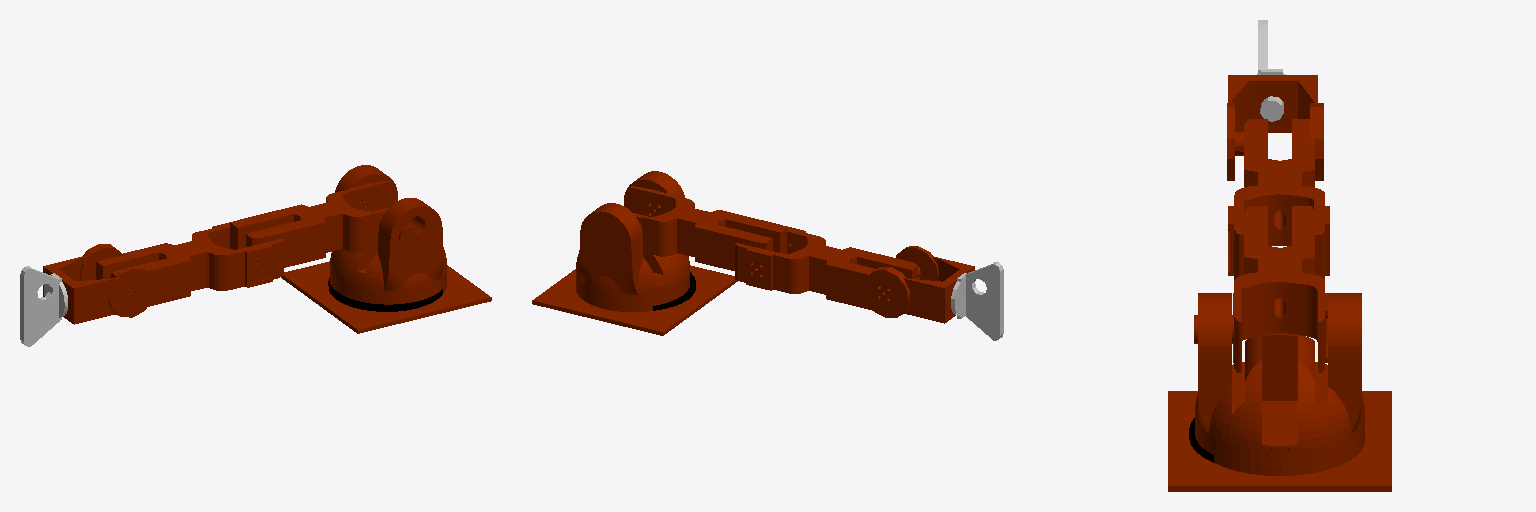
The robot description file, URDF, robot "braccio":
<?xml version="1.0"?>
<robot name="braccio">
     <gazebo>
     <plugin name="gazebo_ros_control" filename="libgazebo_ros_control.so">
       <robotNamespace>/robot</robotNamespace>
       <robotSimType>gazebo_ros_control/DefaultRobotHWSim</robotSimType>
       <controlPeriod>0.001</controlPeriod>
       <legacyModeNS>true</legacyModeNS>
     </plugin>
   </gazebo>
    <!-- Color de materiales -->
    <material name="orange">
        <color rgba="0.57 0.17 0.0 1" />
    </material>
    <material name="white">
        <color rgba="0.8 0.8 0.8 1.0" />
    </material>
    <material name="black">
        <color rgba="0 0 0 0.50" />
    </material>

    <!--Mascaras para partes del robot-->
    <link name="base_link">
        <visual>
            <geometry>
                <cylinder length="0.01" radius=".053" />
            </geometry>
            <material name="black" />
            <origin rpy="0 0 0" xyz="0 0 0" />
        </visual>
        <inertial>
            <origin rpy="0 0 0" xyz="0 0 0" />
            <mass value="2" />
            <inertia ixx="0.015" ixy="0" ixz="0" iyy="0.00666666666667" iyz="0" izz="0.0216666666667" />
        </inertial>
    </link>

    <link name="braccio_base_link">
        <visual>
            <geometry>
                <mesh filename="package://lab2/meshes/braccio_base.stl" scale="0.01 0.01 0.01" />
            </geometry>
            <material name="orange" />
            <origin rpy="0 0 -1.5708" xyz="0 0.004 0" />
        </visual>
        <collision>
            <geometry>
                <mesh filename="package://lab2/meshes/braccio_base.stl" scale="0.01 0.01 0.01" />
            </geometry>
            <origin rpy="0 0 -1.5708" xyz="0 0.004 0" />
        </collision>
        <inertial>
            <origin rpy="0 0 3.1416" xyz="0 0.004 0" />
            <mass value="2" />
            <inertia ixx="0.015" ixy="0" ixz="0" iyy="0.00666666666667" iyz="0" izz="0.0216666666667" />
        </inertial>
    </link>

    <link name="shoulder_link">
        <visual>
            <geometry>
                <mesh filename="package://lab2/meshes/braccio_shoulder.stl" scale="0.01 0.01 0.01" />
            </geometry>
            <material name="orange" />
            <origin rpy="0 0 0" xyz="-0.01 0.0056 -0.021" />
        </visual>
        <collision>
            <geometry>
                <mesh filename="package://lab2/meshes/braccio_shoulder.stl" scale="0.01 0.01 0.01" />
            </geometry>
            <origin rpy="0 0 0" xyz="-0.01 0.0056 -0.021" />
        </collision>
        <inertial>
            <origin rpy="0 0 0" xyz="-0.01 0.0056 -0.021" />
            <mass value="0.1" />
            <inertia ixx="0.000348958333333" ixy="0" ixz="0" iyy="0.000348958333333" iyz="0" izz="3.125e-05" />
        </inertial>
    </link>

    <link name="elbow_link">
        <visual>
            <geometry>
                <mesh filename="package://lab2/meshes/braccio_elbow.stl" scale="0.01 0.01 0.01" />
            </geometry>
            <material name="orange" />
            <origin rpy="0 0 0" xyz="-0.01 0 -0.005" />
        </visual>
        <collision>
            <geometry>
                <mesh filename="package://lab2/meshes/braccio_elbow.stl" scale="0.01 0.01 0.01" />
            </geometry>
            <origin rpy="0 0 0" xyz="-0.01 0 -0.005" />
        </collision>
        <inertial>
            <origin rpy="0 0 0" xyz="-0.01 0 -0.005" />
            <mass value="0.1" />
            <inertia ixx="0.000348958333333" ixy="0" ixz="0" iyy="0.000348958333333" iyz="0" izz="3.125e-05" />
        </inertial>
    </link>

    <link name="wrist_pitch_link">
        <visual>
            <geometry>
                <mesh filename="package://lab2/meshes/braccio_wrist_pitch.stl" scale="0.01 0.01 0.01" />
            </geometry>
            <material name="orange" />
            <origin rpy="0 0 0" xyz="0.003 -0.0015 0.0085" />
        </visual>
        <collision>
            <geometry>
                 <mesh filename="package://lab2/meshes/braccio_wrist_pitch.stl" scale="0.01 0.01 0.01" />
            </geometry>
            <origin rpy="0 0 0" xyz="0.003 -0.0015 0.0085" />
        </collision>
        <inertial>
            <origin rpy="0 0 0" xyz="0.003 -0.0015 0.0085" />
            <mass value="0.1" />
            <inertia ixx="0.000348958333333" ixy="0" ixz="0" iyy="0.000348958333333" iyz="0" izz="3.125e-05" />
        </inertial>
    </link>

    <link name="wrist_roll_link">
        <visual>
            <geometry>
                <mesh filename="package://lab2/meshes/braccio_wrist_roll.stl" scale="0.01 0.01 0.01" />
            </geometry>
            <material name="white" />
            <origin rpy="0 0 0" xyz="0.006 0 0.035" />
        </visual>
        <collision>
            <geometry>
                <mesh filename="package://lab2/meshes/braccio_wrist_roll.stl" scale="0.01 0.01 0.01" />
            </geometry>
            <origin rpy="0 0 0" xyz="0.006 0 0.035" />
        </collision>
        <inertial>
            <origin rpy="0 0 0" xyz="0.006 0 0.035" />
            <mass value="0.1" />
            <inertia ixx="0.000348958333333" ixy="0" ixz="0" iyy="0.000348958333333" iyz="0" izz="3.125e-05" />
        </inertial>
    </link>

    <link name="left_gripper_link">
        <visual>
            <geometry>
                <mesh filename="package://lab2/meshes/braccio_left_gripper.stl" scale="0.001 0.001 0.001" />
            </geometry>
            <material name="white" />
            <origin rpy="0 1.5708 0" xyz="0.035 -0.0215 0" />
        </visual>
        <collision>
            <origin rpy="0 1.5708 0" xyz="0.035 -0.0215 0" />
            <geometry>
                 <mesh filename="package://lab2/meshes/braccio_left_gripper.stl" scale="0.001 0.001 0.001" />
            </geometry>
        </collision>
        <inertial>
            <mass value="0.1" />
            <inertia ixx="0.000348958333333" ixy="0" ixz="0" iyy="0.000348958333333" iyz="0" izz="3.125e-05" />
        </inertial>
    </link>

    <link name="right_gripper_link">
        <visual>
            <geometry>
                <mesh filename="package://lab2/meshes/braccio_right_gripper.stl" scale="0.001 0.001 0.001" />
            </geometry>
            <material name="white" />
            <origin rpy="0 1.5708 0" xyz="0.035 -0.0225 0.010" />
        </visual>
        <collision>
            <origin rpy="0 1.5708 0" xyz="0.035 -0.0225 0.010" />
            <geometry>
                 <mesh filename="package://lab2/meshes/braccio_right_gripper.stl" scale="0.001 0.001 0.001" />
            </geometry>
        </collision>
        <inertial>
            <mass value="0.1" />
            <inertia ixx="0.000348958333333" ixy="0" ixz="0" iyy="0.000348958333333" iyz="0" izz="3.125e-05" />
        </inertial>
    </link>

    <!--Articulaciones del robot-->

    <joint name="base_joint" type="revolute">
        <axis xyz="0 0 -1" />
        <limit effort="1000.0" lower="0.0" upper="3.1416" velocity="1.0" />
        <origin rpy="0 0 0" xyz="0 0 0" />
        <parent link="base_link" />
        <child link="braccio_base_link" />
    </joint>
    <transmission name="base_trasmision">
        <type>transmission_interface/SimpleTransmission</type>
        <joint name="base_joint">
            <hardwareInterface>
                hardware_interface/PositionJointInterface
            </hardwareInterface>
        </joint>
        <actuator name="base_motor">
        <mechanicalReduction>1</mechanicalReduction>
        </actuator>
    </transmission>

    <joint name="shoulder_joint" type="revolute">
        <axis xyz="1 0 0" />
        <limit effort="1000.0" lower="0.2618" upper="2.8798" velocity="1.0" />
        <origin rpy="0 0 -1.5708" xyz="0 -.002 0.072" />
        <parent link="braccio_base_link" />
        <child link="shoulder_link" />
    </joint>
    <transmission name="shoulder_trasmision">
        <type>transmission_interface/SimpleTransmission</type>
        <joint name="shoulder_joint">
            <hardwareInterface>
                hardware_interface/PositionJointInterface
            </hardwareInterface>
        </joint>
        <actuator name="shoulder_motor">
        <mechanicalReduction>1</mechanicalReduction>
        </actuator>
    </transmission>

    <joint name="elbow_joint" type="revolute">
        <axis xyz="1 0 0" />
        <limit effort="1000.0" lower="0" upper="3.1416" velocity="1.0" />
        <origin rpy="0 0 0" xyz="0 0 0.125" />
        <parent link="shoulder_link" />
        <child link="elbow_link" />
    </joint>
    <transmission name="elbow_trasmision">
        <type>transmission_interface/SimpleTransmission</type>
        <joint name="elbow_joint">
            <hardwareInterface>
                hardware_interface/PositionJointInterface
            </hardwareInterface>
        </joint>
        <actuator name="elbow_motor">
        <mechanicalReduction>1</mechanicalReduction>
        </actuator>
    </transmission>

    <joint name="wrist_pitch_joint" type="revolute">
        <axis xyz="1 0 0" />
        <limit effort="1000.0" lower="0" upper="3.1416" velocity="1.0" />
        <origin rpy="0 0 0" xyz="0 0 0.125" />
        <parent link="elbow_link" />
        <child link="wrist_pitch_link" />
    </joint>
    <transmission name="wrist_pitch_trasmision">
        <type>transmission_interface/SimpleTransmission</type>
        <joint name="wrist_pitch_joint">
            <hardwareInterface>
                hardware_interface/PositionJointInterface
            </hardwareInterface>
        </joint>
        <actuator name="wrist_pitch_motor">
        <mechanicalReduction>1</mechanicalReduction>
        </actuator>
    </transmission>

    <joint name="wrist_roll_joint" type="revolute">
        <axis xyz="0 0 -1" />
        <limit effort="1000.0" lower="0.0" upper="3.1416" velocity="1.0" />
        <origin rpy="0 0 1.5708" xyz="0 0.0 0.06" />
        <parent link="wrist_pitch_link" />
        <child link="wrist_roll_link" />
    </joint>
    <transmission name="wrist_roll_trasmision">
        <type>transmission_interface/SimpleTransmission</type>
        <joint name="wrist_roll_joint">
            <hardwareInterface>
                hardware_interface/PositionJointInterface
            </hardwareInterface>
        </joint>
        <actuator name="wrist_roll_motor">
        <mechanicalReduction>1</mechanicalReduction>
        </actuator>
    </transmission>

    <joint name="gripper_joint" type="revolute">
        <axis xyz="0 -1 0" />
        <limit effort="1000.0" lower="0.95" upper="1.54" velocity="1.0" />
        <origin rpy="0 0 0" xyz="0.010 0 0.03" />
        <parent link="wrist_roll_link" />
        <child link="right_gripper_link" />
    </joint>
    <transmission name="gripper_trasmision">
        <type>transmission_interface/SimpleTransmission</type>
        <joint name="gripper_joint">
            <hardwareInterface>
                hardware_interface/PositionJointInterface
            </hardwareInterface>
        </joint>
        <actuator name="gripper_motor">
        <mechanicalReduction>1</mechanicalReduction>
        </actuator>
    </transmission>
    

    <joint name="sub_gripper_joint" type="revolute">
        <axis xyz="0 1 0" />
        <mimic joint="gripper_joint" />
        <limit effort="1000.0" lower="0.95" upper="1.54" velocity="1.0" />
        <origin rpy="0 3.1416 0" xyz="-0.010 0 0.03" />
        <parent link="wrist_roll_link" />
        <child link="left_gripper_link" />
    </joint>
    <transmission name="sub_gripper_trasmision">
        <type>transmission_interface/SimpleTransmission</type>
        <joint name="sub_gripper_joint">
            <hardwareInterface>
                hardware_interface/PositionJointInterface
            </hardwareInterface>
        </joint>
        <actuator name="sub_gripper_motor">
        <mechanicalReduction>1</mechanicalReduction>
        </actuator>
    </transmission>
    
    <link name="world"/>
    <joint name="world_joint" type="fixed">
        <parent link="world"/>
        <child link="base_link"/>
        <origin rpy="0.0 0.0 0.0" xyz="0.0 0.0 0.0"/>
    </joint>
    
    <gazebo reference="base_link">
        <mu1>1</mu1>
        <mu2>1</mu2>
        <selfCollide>true</selfCollide>
        <material>Gazebo/black</material>
    </gazebo>
    
    <gazebo reference="gripper_joint">
        <implicitSpringDamper>1</implicitSpringDamper>
    </gazebo>
    <gazebo reference="sub_gripper_joint">
     <implicitSpringDamper>1</implicitSpringDamper>
    </gazebo>

  <gazebo reference="braccio_base_link">
    <material>Gazebo/Orange</material>
    <mu1>1</mu1>
    <mu2>1</mu2>
    <selfCollide>true</selfCollide>
  </gazebo>
  <gazebo reference="shoulder_link">
    <material>Gazebo/Orange</material>
    <mu1>1</mu1>
    <mu2>1</mu2>
    <selfCollide>true</selfCollide>
  </gazebo>
  <gazebo reference="elbow_link">
    <material>Gazebo/Orange</material>
    <mu1>1</mu1>
    <mu2>1</mu2>
    <selfCollide>true</selfCollide>
  </gazebo>
  <gazebo reference="wrist_pitch_link">
    <material>Gazebo/Orange</material>
    <mu1>1</mu1>
    <mu2>1</mu2>
    <selfCollide>true</selfCollide>
  </gazebo>
  <gazebo reference="wrist_roll_link">
    <material>Gazebo/Orange</material>
    <mu1>1</mu1>
    <mu2>1</mu2>
    <selfCollide>true</selfCollide>
  </gazebo>
  <gazebo reference="right_gripper_link">
    <material>Gazebo/White</material>
    <selfCollide>true</selfCollide>
    <kp>100000.0</kp>
    <kd>1.0</kd>
    <mu1>500.0</mu1>
    <mu2>200.0</mu2>
    <minDepth>0.002</minDepth>
    <maxVel>0</maxVel>
  </gazebo>
  <gazebo reference="left_gripper_link">
    <material>Gazebo/White</material>
    <selfCollide>true</selfCollide>
    <kp>100000.0</kp>
    <kd>1.0</kd>
    <mu1>500.0</mu1>
    <mu2>200.0</mu2>
    <minDepth>0.002</minDepth>
    <maxVel>0</maxVel>
  </gazebo>
</robot>

--- What the picture shows (computed from the rendered views, not written in the file) ---
Views: 3 orthographic renders of the robot side by side, from view 1: azimuth 30°, elevation 25°; view 2: azimuth 150°, elevation 25°; view 3: azimuth 270°, elevation 25°.
Robot: braccio — 9 links, 8 joints (7 revolute, 1 fixed); root link world; default pose: joints at zero except 3 at the middle of their limits (shoulder_joint = 1.57, gripper_joint = 1.25, sub_gripper_joint = 1.25).
Visible links, largest first — view 1: braccio_base_link, shoulder_link, elbow_link, wrist_pitch_link, wrist_roll_link, base_link; view 2: braccio_base_link, elbow_link, shoulder_link, wrist_pitch_link, wrist_roll_link; view 3: braccio_base_link, shoulder_link, elbow_link, wrist_pitch_link, wrist_roll_link.
Boxes of the visible links, bbox=[...] form: braccio_base_link: bbox=[281, 165, 491, 333]; shoulder_link: bbox=[230, 180, 417, 267]; elbow_link: bbox=[96, 221, 283, 306]; wrist_pitch_link: bbox=[43, 244, 155, 324]; wrist_roll_link: bbox=[20, 266, 67, 346]; base_link: bbox=[328, 278, 442, 311]; braccio_base_link: bbox=[532, 171, 737, 335]; elbow_link: bbox=[735, 226, 917, 310]; shoulder_link: bbox=[630, 186, 786, 270]; wrist_pitch_link: bbox=[863, 246, 974, 323]; wrist_roll_link: bbox=[951, 262, 1003, 340]; braccio_base_link: bbox=[1168, 293, 1391, 491]; shoulder_link: bbox=[1194, 206, 1327, 372]; elbow_link: bbox=[1228, 119, 1329, 280]; wrist_pitch_link: bbox=[1227, 75, 1323, 180]; wrist_roll_link: bbox=[1257, 20, 1285, 121].
Bounding box of the posed robot: 0.4567 × 0.14 × 0.1157 m (x, y, z).
Meshes: 7 distinct files referenced, 5 mesh visuals loaded (5 binary STL); not drawn: 2 (reference not matched to a file when rendering).